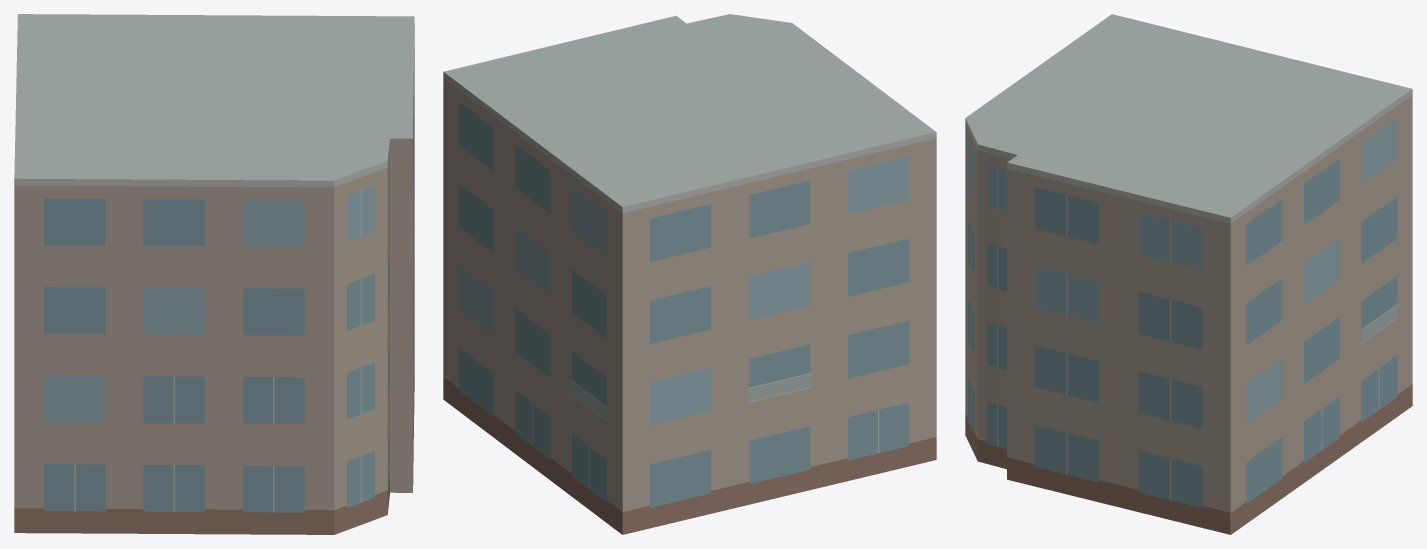
File: survey-upis-32965693.glb
3 views of the same model, side by side, from view 1: azimuth 30°, elevation 25°; view 2: azimuth 150°, elevation 25°; view 3: azimuth 270°, elevation 25° (orthographic). The views are drawn at different scales.
Visible parts, largest first — view 1: survey-upis-32965693.tmp; view 2: survey-upis-32965693.tmp; view 3: survey-upis-32965693.tmp.
Part boxes in pixels (x1=…): survey-upis-32965693.tmp: x1=14, y1=14, x2=414, y2=534; survey-upis-32965693.tmp: x1=443, y1=14, x2=936, y2=534; survey-upis-32965693.tmp: x1=965, y1=14, x2=1412, y2=534.
Bounding box in the file's own units: 17.79 × 12.9 × 16.5.
